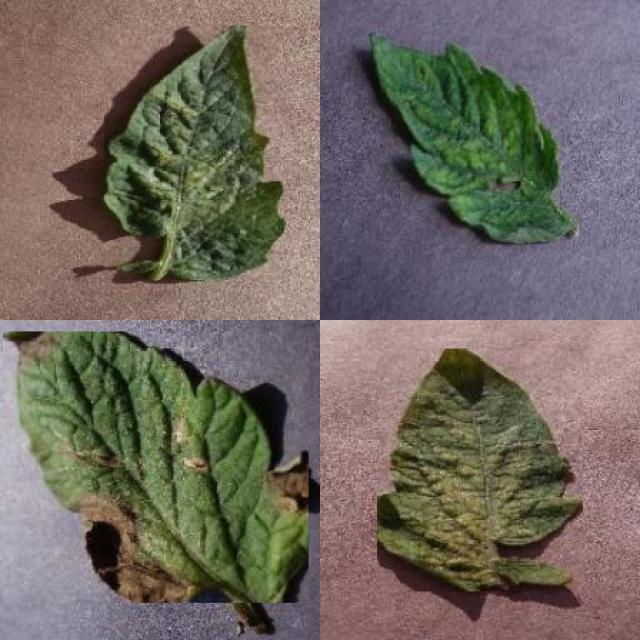Late Blight: (4, 332, 309, 604)
Mosaic Virus: (369, 26, 570, 244)
Spider Mites: (377, 349, 583, 592), (105, 26, 285, 281)
